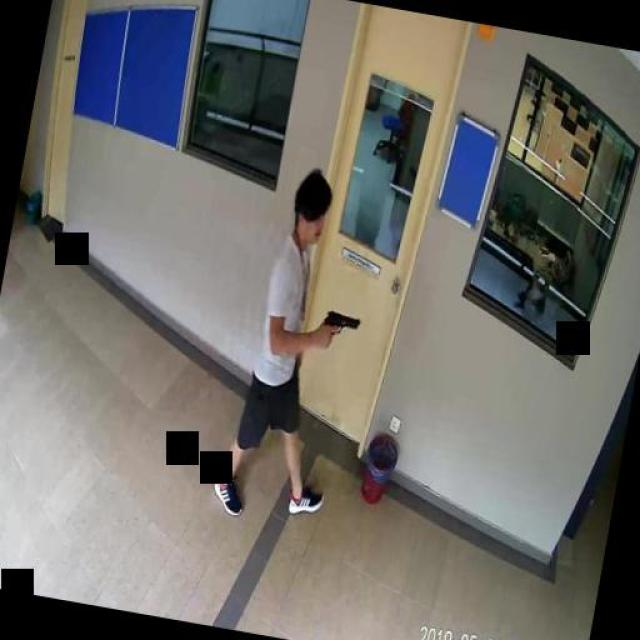gun: (318, 306, 360, 352)
